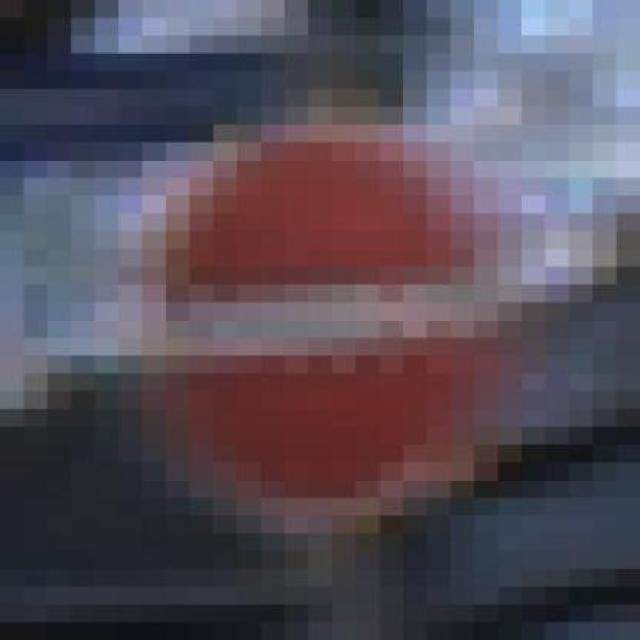B2: (122, 124, 490, 512)
